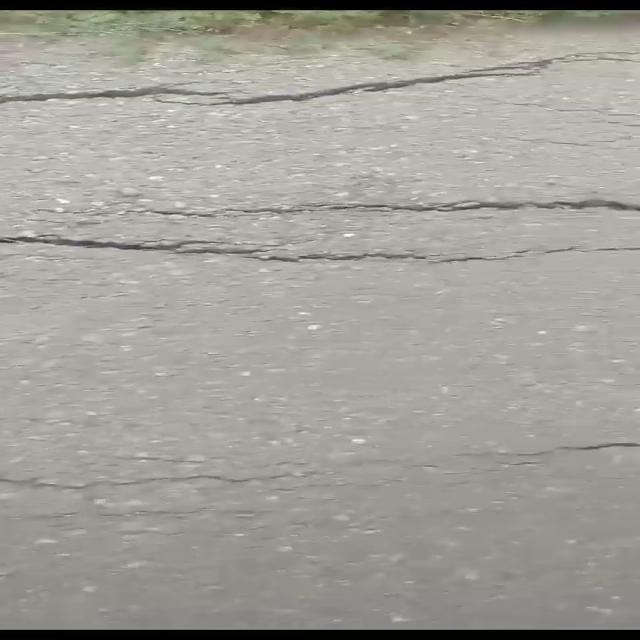Melintang: (0, 38, 590, 124), (0, 224, 637, 281)
